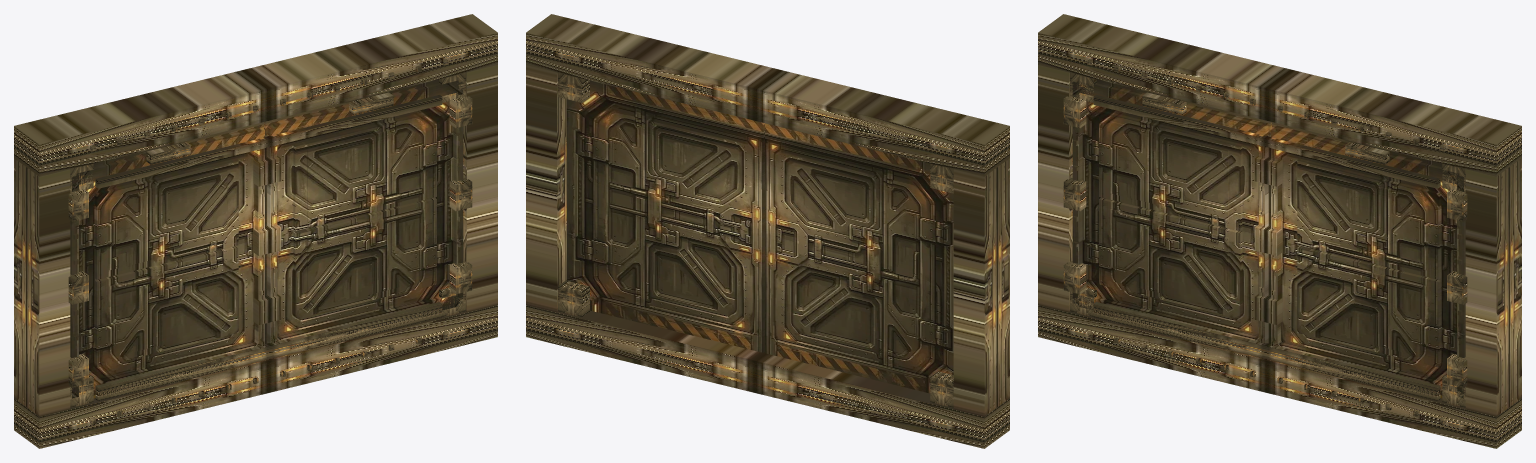
The model's file is hangar_ic_kapi_lonca.glb.
3 views of the same model, side by side, from view 1: azimuth 30°, elevation 25°; view 2: azimuth 150°, elevation 25°; view 3: azimuth 330°, elevation 25° (orthographic).
Visible parts, largest first — view 1: FRAME, DOOR_R, DOOR_L; view 2: FRAME, DOOR_R, DOOR_L; view 3: FRAME, DOOR_L, DOOR_R.
Part boxes in pixels (x1=…): FRAME: x1=14, y1=14, x2=497, y2=448; DOOR_R: x1=264, y1=79, x2=463, y2=343; DOOR_L: x1=70, y1=122, x2=270, y2=398; FRAME: x1=526, y1=14, x2=1009, y2=448; DOOR_R: x1=566, y1=80, x2=764, y2=352; DOOR_L: x1=765, y1=123, x2=953, y2=393; FRAME: x1=1038, y1=14, x2=1521, y2=448; DOOR_L: x1=1072, y1=79, x2=1271, y2=343; DOOR_R: x1=1265, y1=122, x2=1465, y2=398.
Bounding box in the file's own units: 10.4 × 6.6 × 1.14.
1 material, 1 textured.
